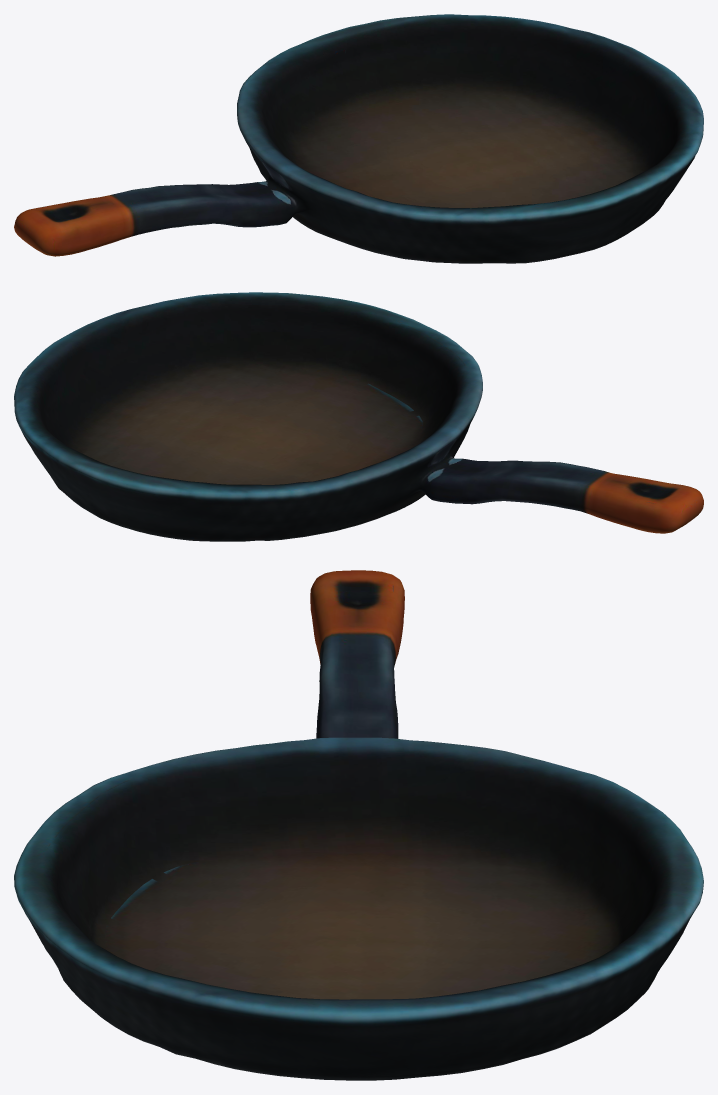
File: c22dcf54c899_low_poly_stylized_f.fbx
3 renders of one model, top to bottom at view 1: azimuth 30°, elevation 25°; view 2: azimuth 150°, elevation 25°; view 3: azimuth 270°, elevation 25°, orthographic. The views are drawn at different scales.
Parts seen in each view (by area): view 1: mesh; view 2: mesh; view 3: mesh.
Boxes of the visible parts, x1,y1,x2,y2 form: mesh: (14,14,703,263); mesh: (14,292,703,541); mesh: (14,570,703,1080).
Size of the model in its own units: 99.85 by 10.03 by 65.54.
